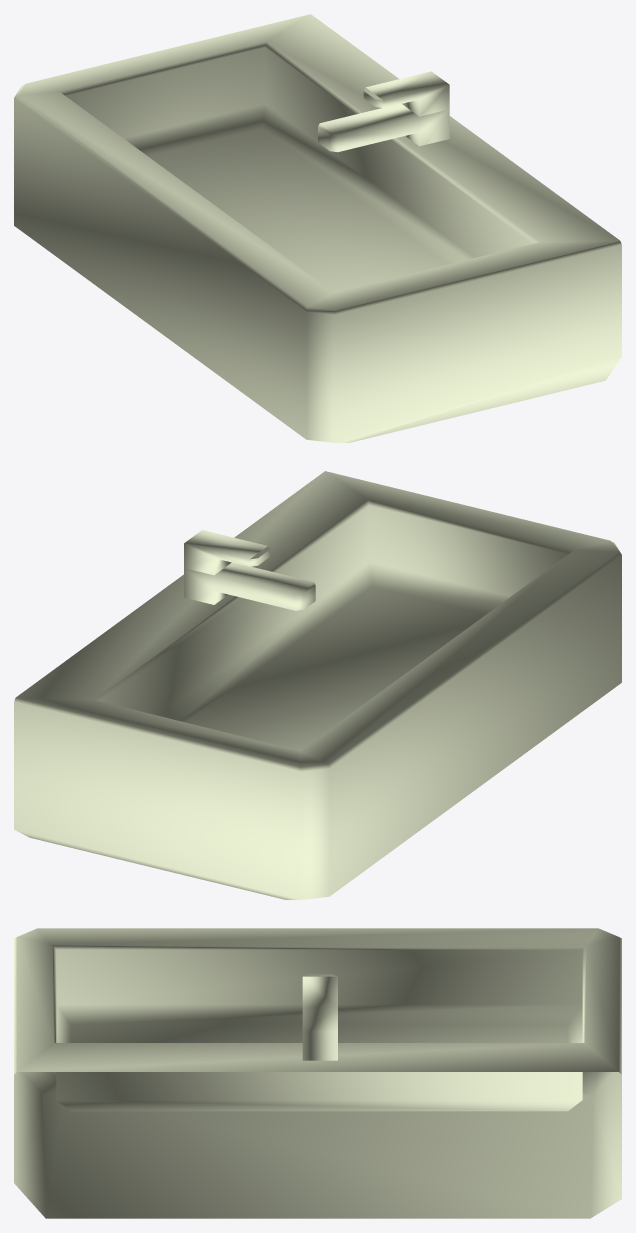
Rendered from hotl_sink.FBX.
3 views of the same model, one above another, from view 1: azimuth 30°, elevation 25°; view 2: azimuth 150°, elevation 25°; view 3: azimuth 270°, elevation 25° (orthographic). The views are drawn at different scales.
Visible parts, largest first — view 1: sink; view 2: sink; view 3: sink.
Part boxes in pixels (x1,y1,x2,y2): sink: (14, 14, 621, 442); sink: (14, 471, 621, 899); sink: (14, 928, 621, 1218).
Size of the model in its own units: 0.6716 by 0.4312 by 1.19.
